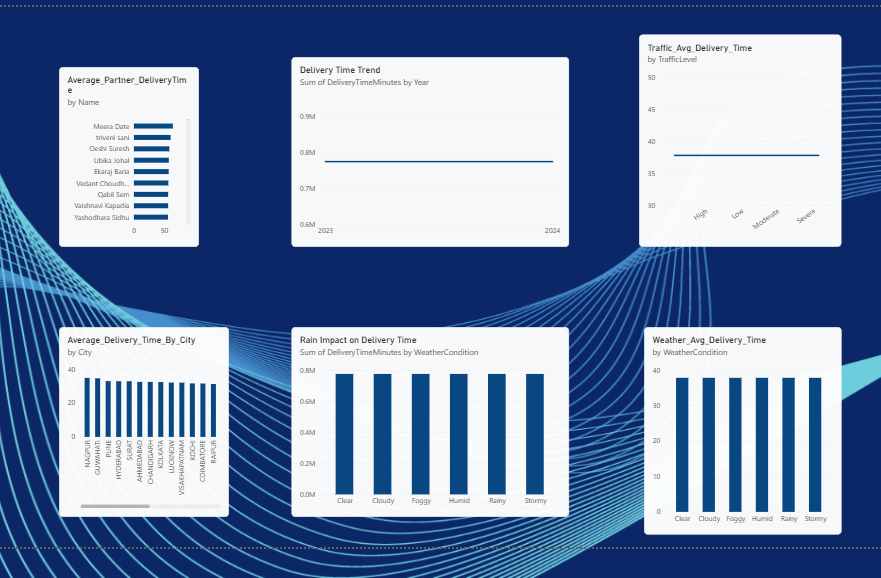

The dashboard page shown, as its layout file describes it:
{"tool":"powerbi","page":{"name":"Delivery Analytics","canvas":[1920,1080],"ordinal":3},"visuals":[{"type":"clusteredBarChart","fields":{"Category":["delivery_partners.Name"],"Y":["cities.Average_Partner_DeliveryTime"]},"box":[200,120,280,360],"z":0},{"type":"clusteredColumnChart","fields":{"Category":["delivery_partners.City"],"Y":["cities.Average_Delivery_Time_By_City"]},"box":[200,640,340,380],"z":1000},{"type":"lineChart","fields":{"Category":["traffic.TrafficLevel"],"Y":["cities.Traffic_Avg_Delivery_Time"]},"box":[1360,55,405,425],"z":2000},{"type":"clusteredColumnChart","fields":{"Category":["weather.WeatherCondition"],"Y":["cities.Weather_Avg_Delivery_Time"]},"box":[1370,640,395,415],"z":3000},{"type":"lineChart","title":"Delivery Time Trend","fields":{"Category":["orders.OrderDate.Variation.Date Hierarchy.Year","orders.OrderDate.Variation.Date Hierarchy.Quarter","orders.OrderDate.Variation.Date Hierarchy.Month","orders.OrderDate.Variation.Date Hierarchy.Day"],"Y":["Sum(orders_features.DeliveryTimeMinutes)"]},"box":[665,100,555,380],"z":4000},{"type":"clusteredColumnChart","title":"Rain Impact on Delivery Time","fields":{"Category":["weather.WeatherCondition"],"Y":["Sum(orders.DeliveryTimeMinutes)"]},"box":[665,640,555,380],"z":5000}]}

Visuals, with their boxes on the page's 1920x1080 design canvas (x1, y1, x2, y2). These are canvas units, not pixel positions in the 881x578 screenshot, which may show the page scaled, cropped or inside an application window:
clusteredBarChart - delivery_partners.Name x cities.Average_Partner_DeliveryTime: [200, 120, 480, 480]
clusteredColumnChart - delivery_partners.City x cities.Average_Delivery_Time_By_City: [200, 640, 540, 1020]
lineChart - traffic.TrafficLevel x cities.Traffic_Avg_Delivery_Time: [1360, 55, 1765, 480]
clusteredColumnChart - weather.WeatherCondition x cities.Weather_Avg_Delivery_Time: [1370, 640, 1765, 1055]
"Delivery Time Trend" lineChart: [665, 100, 1220, 480]
"Rain Impact on Delivery Time" clusteredColumnChart: [665, 640, 1220, 1020]
